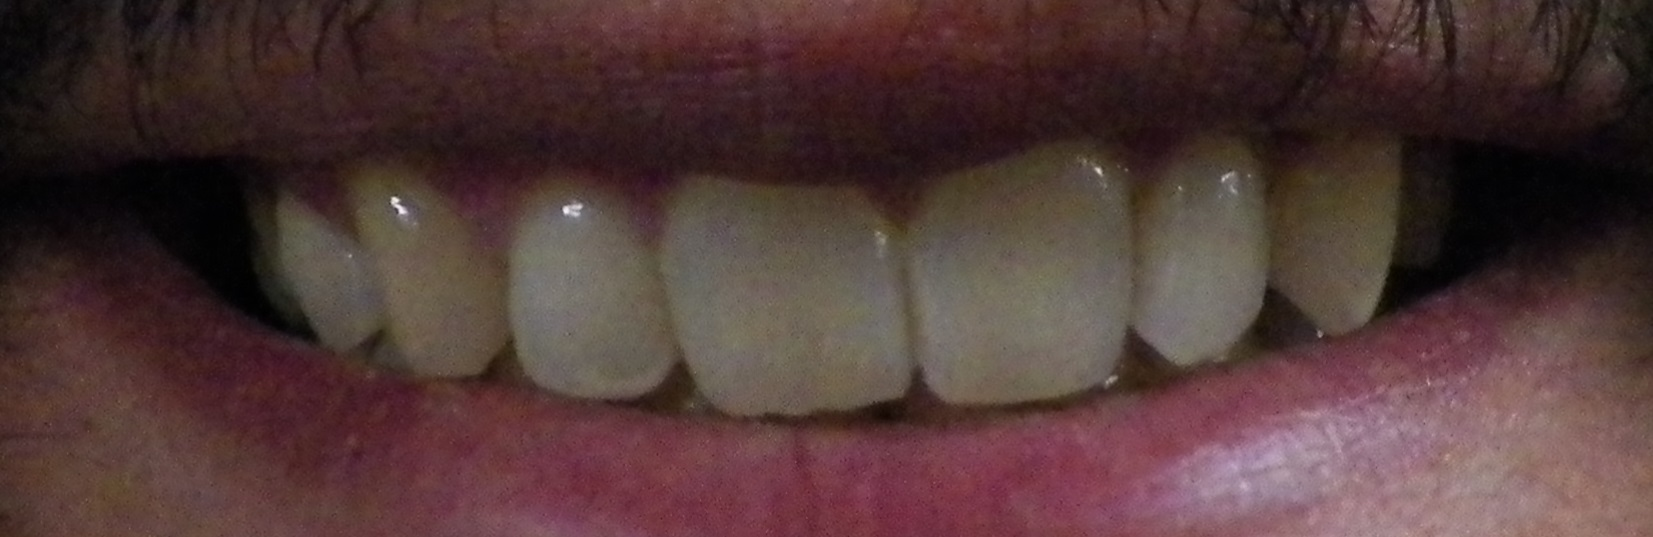boca: (260, 132, 1492, 387)
